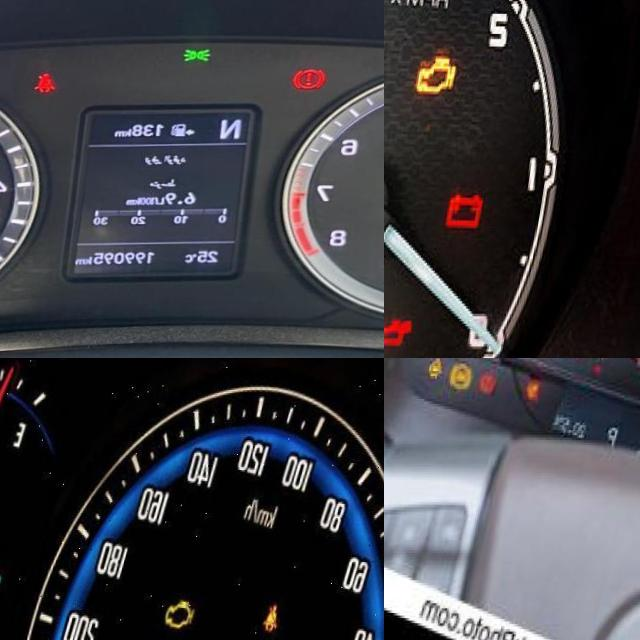Seat Belt: (38, 67, 60, 93)
